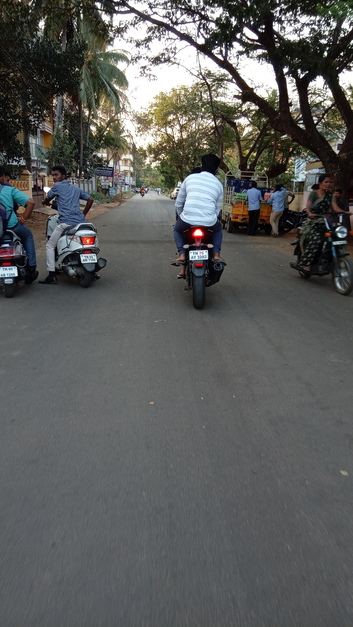bump: (93, 233, 278, 248)
